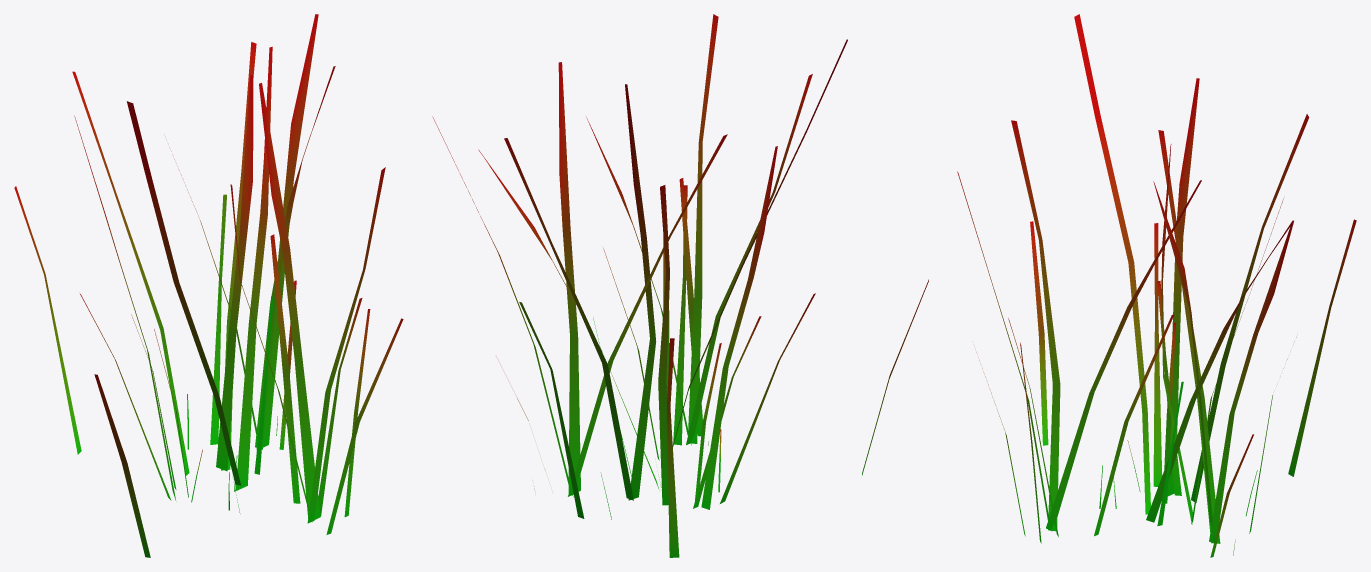
File: ueyoebmia_Var1_LOD2.fbx
The picture shows the model from 3 angles, left to right: view 1: azimuth 30°, elevation 25°; view 2: azimuth 150°, elevation 25°; view 3: azimuth 270°, elevation 25°; orthographic projection. The views are drawn at different scales.
Parts seen in each view (by area): view 1: _7633_Var1_LOD2; view 2: _7633_Var1_LOD2; view 3: _7633_Var1_LOD2.
Part boxes in pixels (x1=…): _7633_Var1_LOD2: x1=14, y1=14, x2=403, y2=557; _7633_Var1_LOD2: x1=432, y1=14, x2=928, y2=557; _7633_Var1_LOD2: x1=957, y1=14, x2=1356, y2=557.
Bounding box in the file's own units: 15.02 × 18.26 × 15.01.
